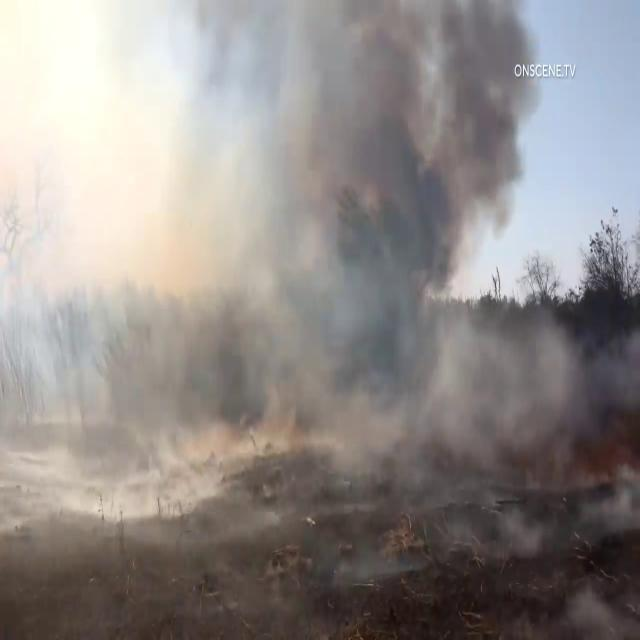Smoke: (0, 1, 630, 538)
